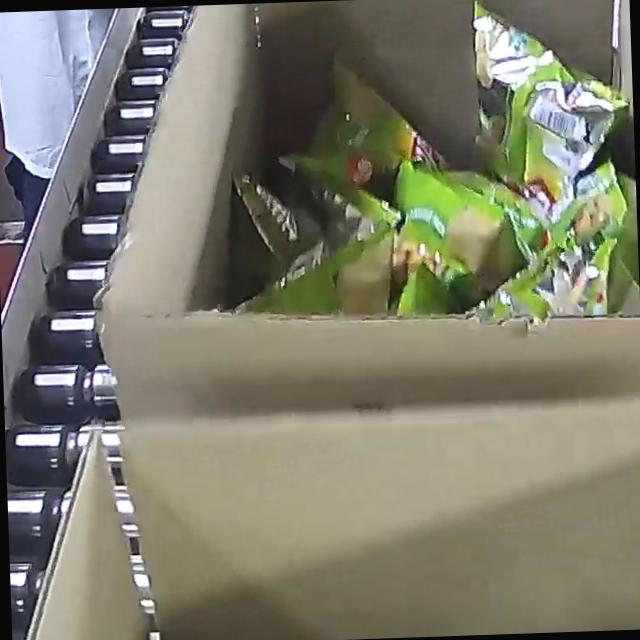yogurt: (217, 0, 640, 330), (107, 547, 640, 640)
